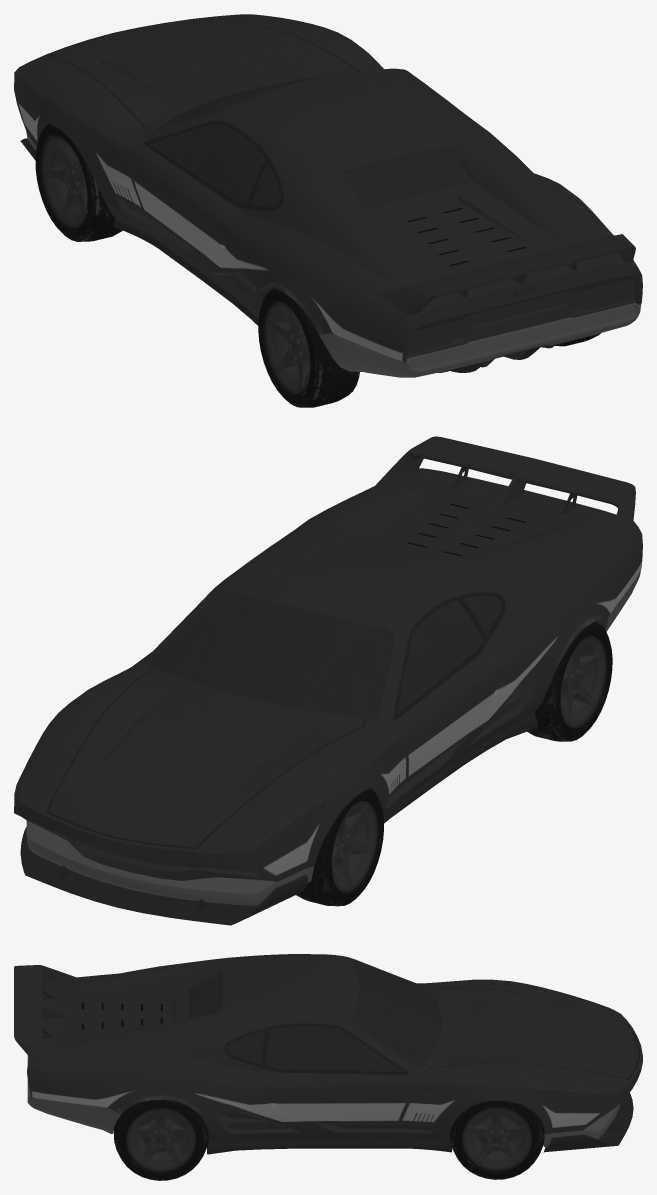
The model's file is model_fast.glb.
3 renders of one model, top to bottom at view 1: azimuth 30°, elevation 25°; view 2: azimuth 150°, elevation 25°; view 3: azimuth 270°, elevation 25°, orthographic. The views are drawn at different scales.
Bounding box in the file's own units: 223 × 142 × 541.
2 materials, 1 textured.
